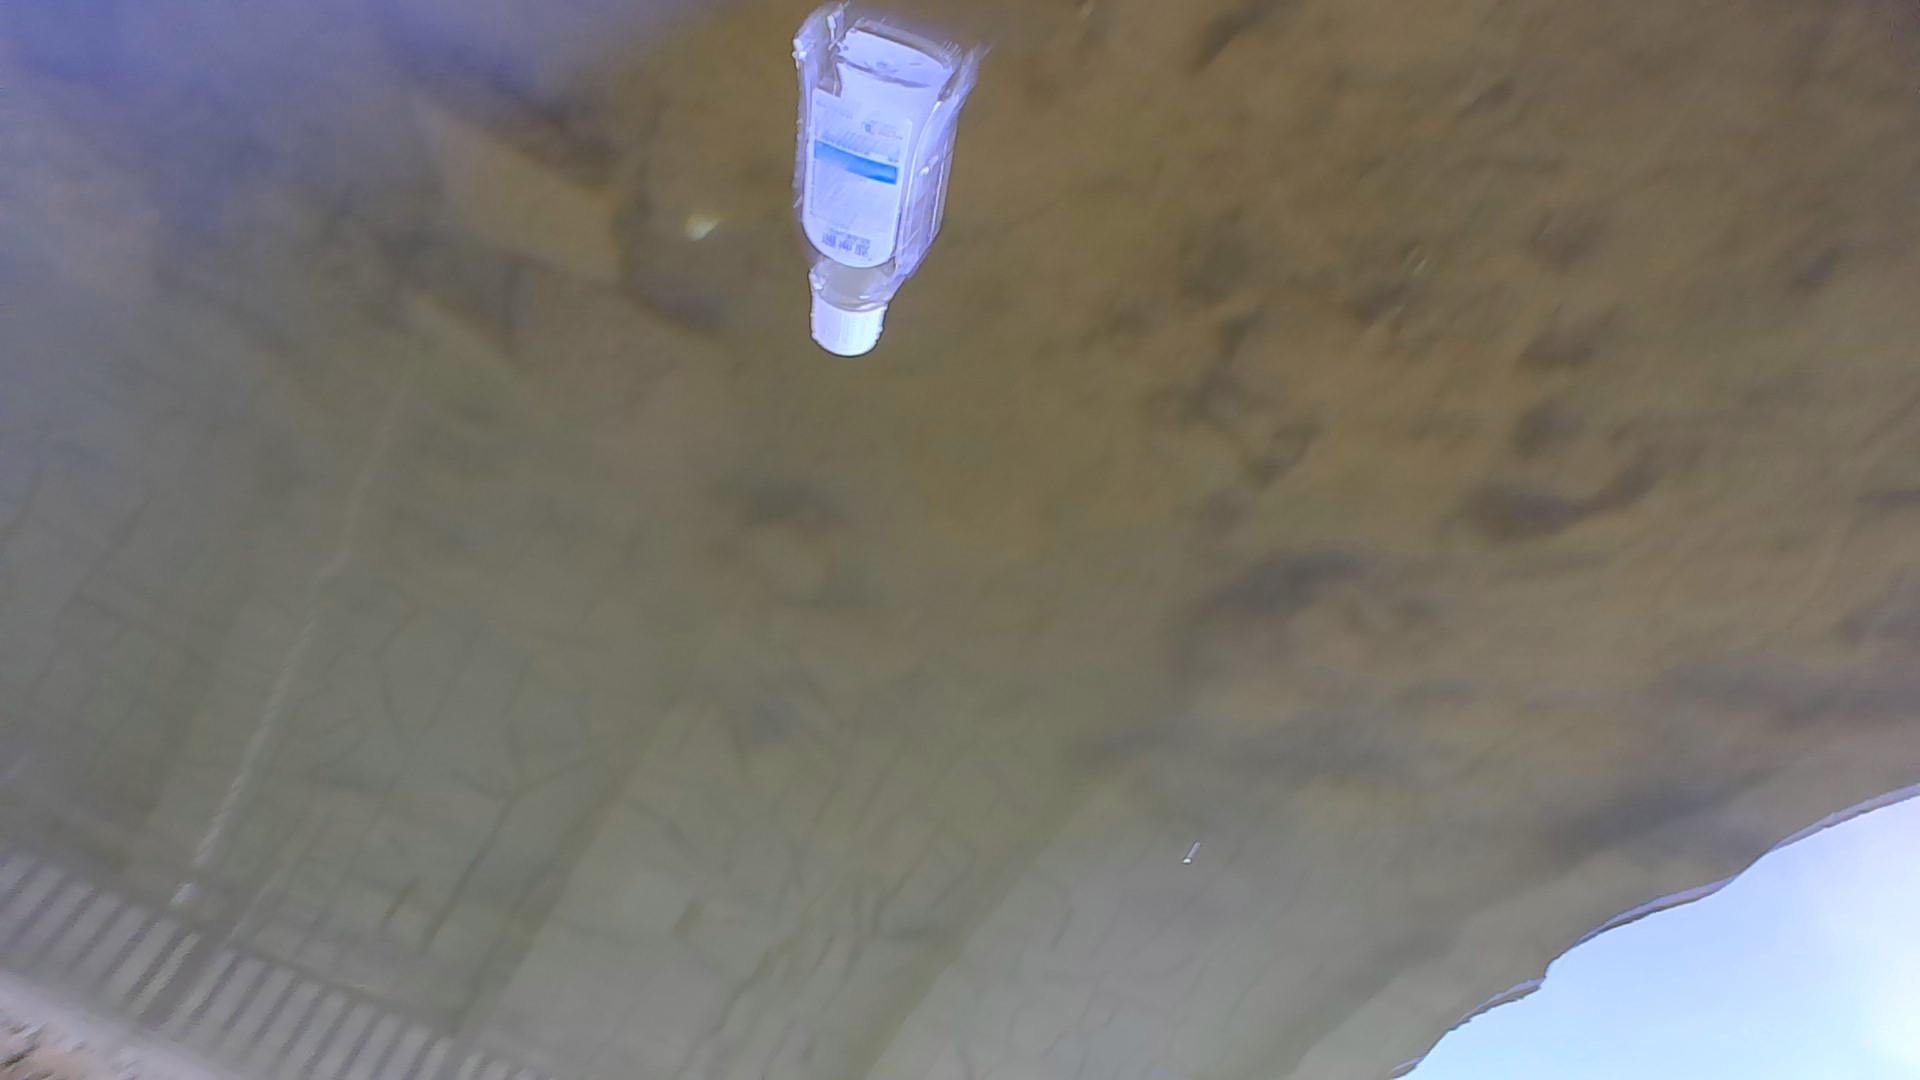Plastic: (782, 12, 989, 376)
